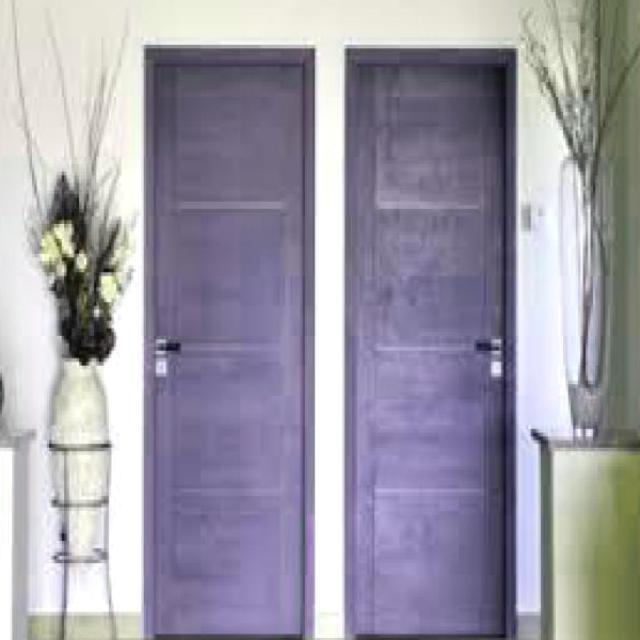door: (342, 38, 521, 638), (142, 46, 312, 637)
